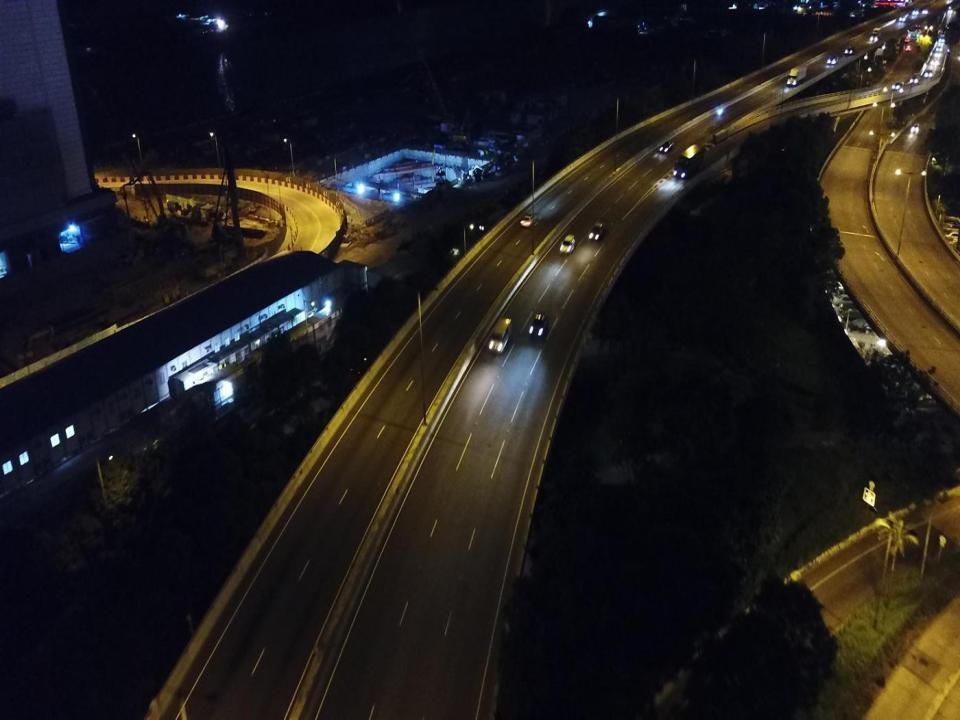car: (528, 313, 548, 338), (846, 319, 874, 333), (832, 292, 860, 306), (841, 310, 869, 323), (560, 234, 576, 256), (839, 303, 866, 316), (827, 282, 854, 295), (589, 221, 603, 242), (520, 214, 537, 227), (659, 140, 673, 154), (944, 231, 960, 241), (826, 56, 838, 65), (892, 82, 903, 90), (931, 58, 940, 66), (925, 70, 933, 78), (905, 45, 912, 52), (922, 8, 929, 15), (938, 37, 946, 43), (948, 6, 953, 14), (935, 46, 943, 50), (904, 37, 910, 42), (935, 53, 941, 57)
truck: (674, 143, 703, 178), (788, 65, 806, 86), (870, 28, 882, 41), (899, 13, 910, 22)
van: (488, 317, 513, 352), (911, 122, 921, 134), (845, 46, 855, 55), (911, 74, 921, 83), (912, 9, 920, 15)
